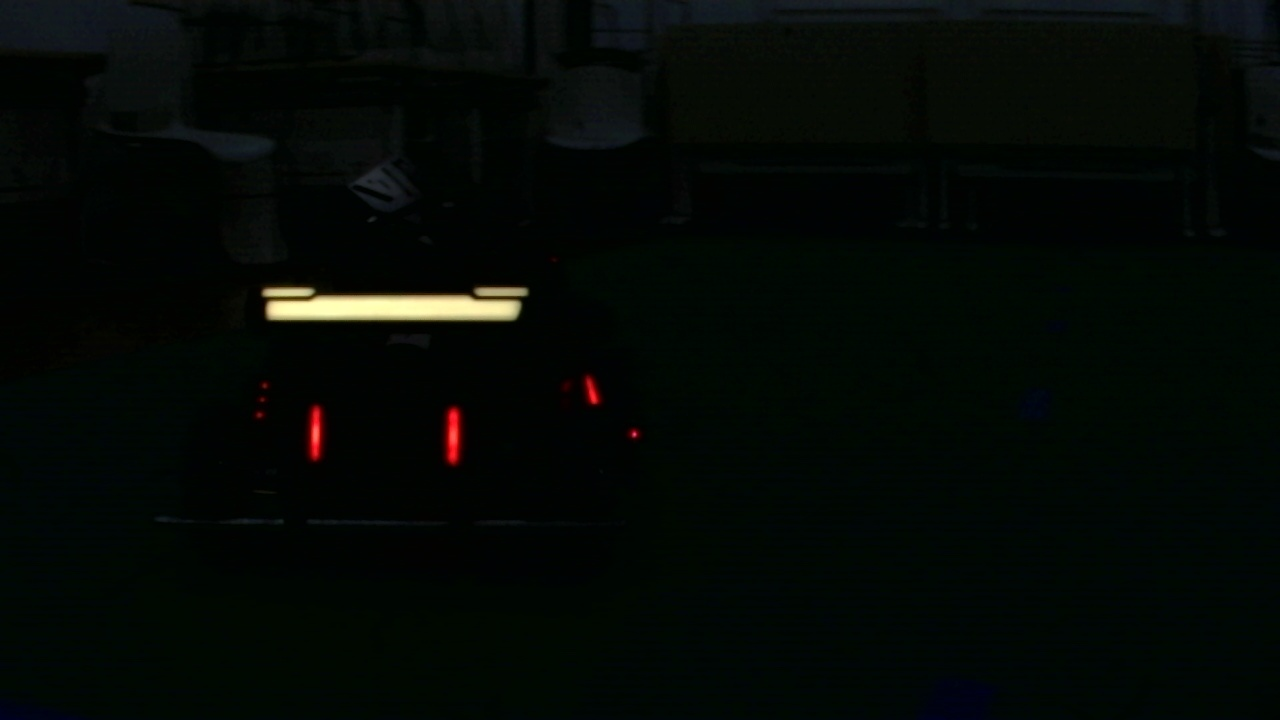lamp: (442, 403, 461, 473), (307, 405, 326, 468), (577, 373, 600, 405)
notpair1: (442, 368, 602, 471)
pair1: (307, 402, 460, 472)
